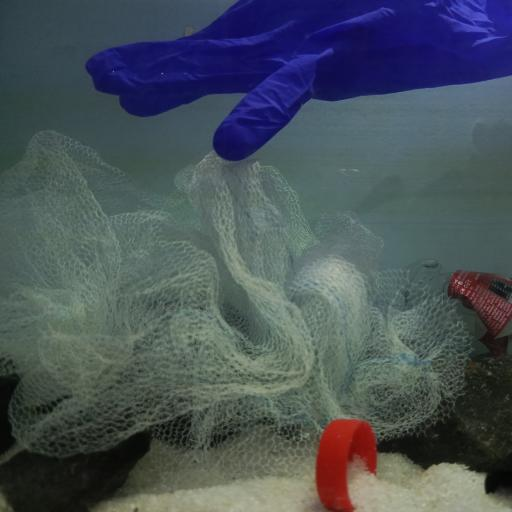bottle_cap: (316, 417, 378, 512), (485, 456, 512, 500)
glove: (84, 0, 512, 163)
net: (2, 126, 471, 478)
plastic_bottle: (398, 257, 512, 355)
